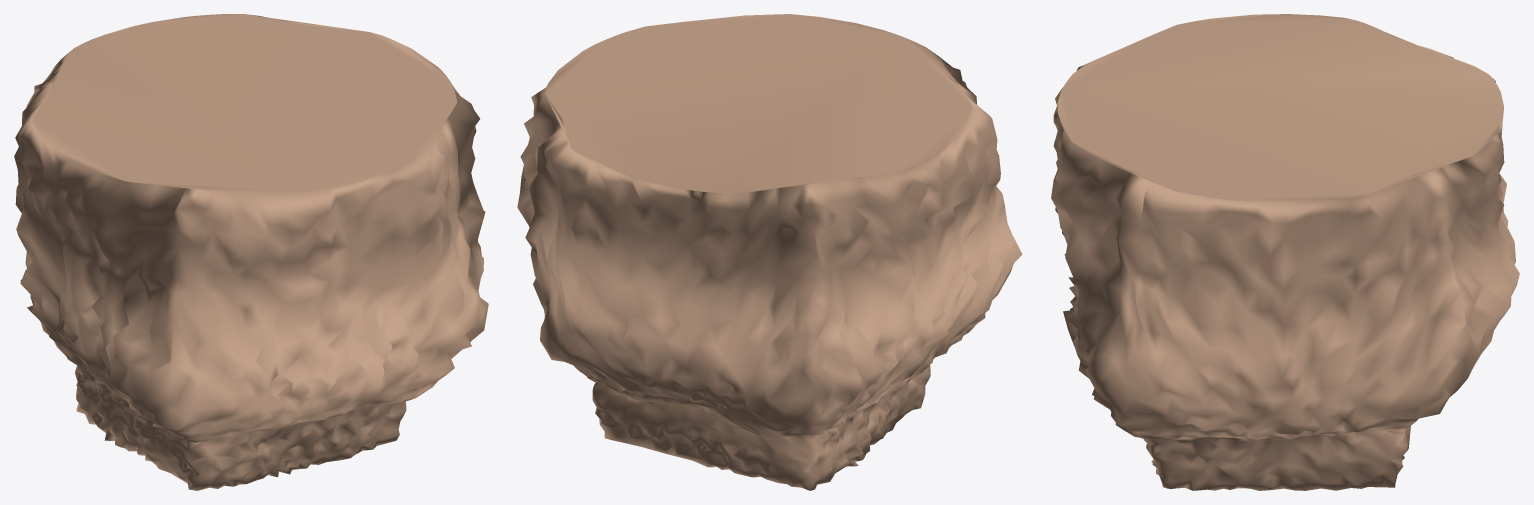
File: DNUy4cloudPerchance.fbx
3 views of the same model, side by side, from view 1: azimuth 30°, elevation 25°; view 2: azimuth 150°, elevation 25°; view 3: azimuth 270°, elevation 25° (orthographic). The views are drawn at different scales.
Parts seen in each view (by area): view 1: cube-reduced; view 2: cube-reduced; view 3: cube-reduced.
Boxes of the visible parts, left/top/right/bottom form: cube-reduced: left=14, top=14, right=488, bottom=490; cube-reduced: left=517, top=14, right=1022, bottom=490; cube-reduced: left=1051, top=14, right=1519, bottom=490.
Size of the model in its own units: 76.84 by 59.43 by 75.78.
